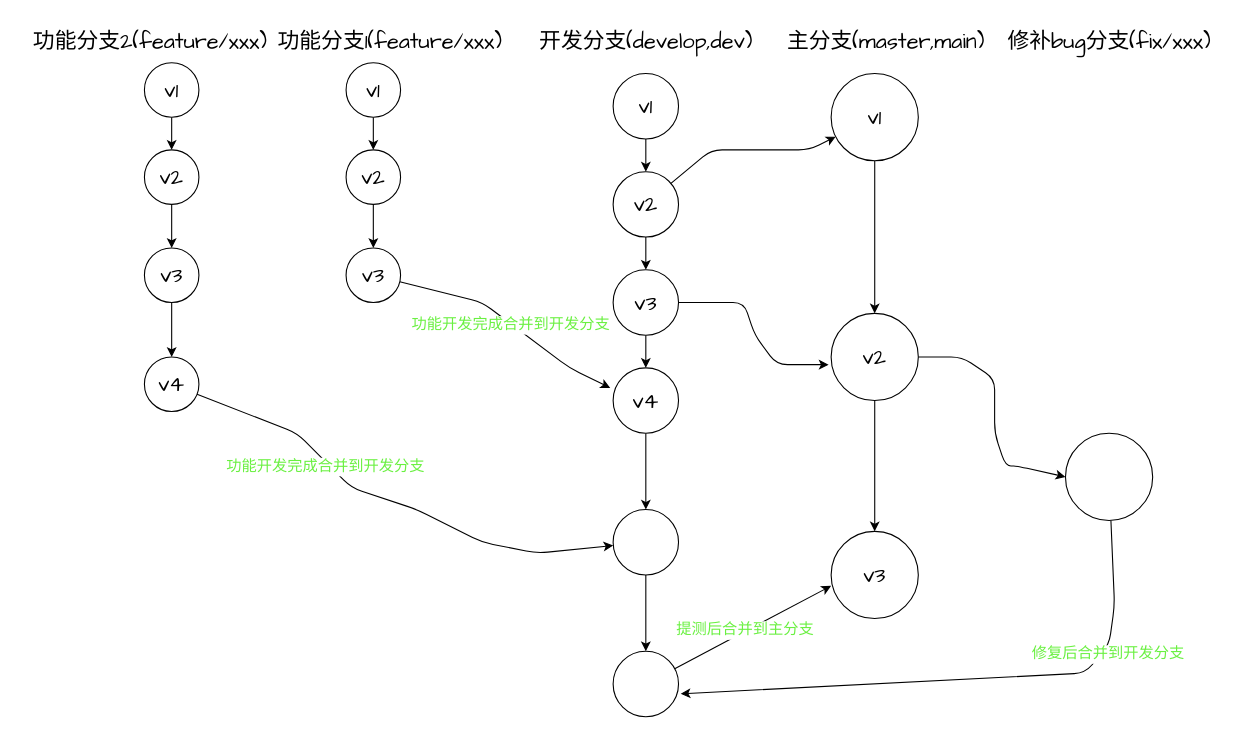
The diagram is 1242 pixels wide and 756 high, and some of its shapes have lost their labels. Here are the shapes that lost their labels. From the top down, the centre of each, then its label:
At [1108,476]: "v2`".
At [645,541]: "v5".
At [645,683]: "v6".
